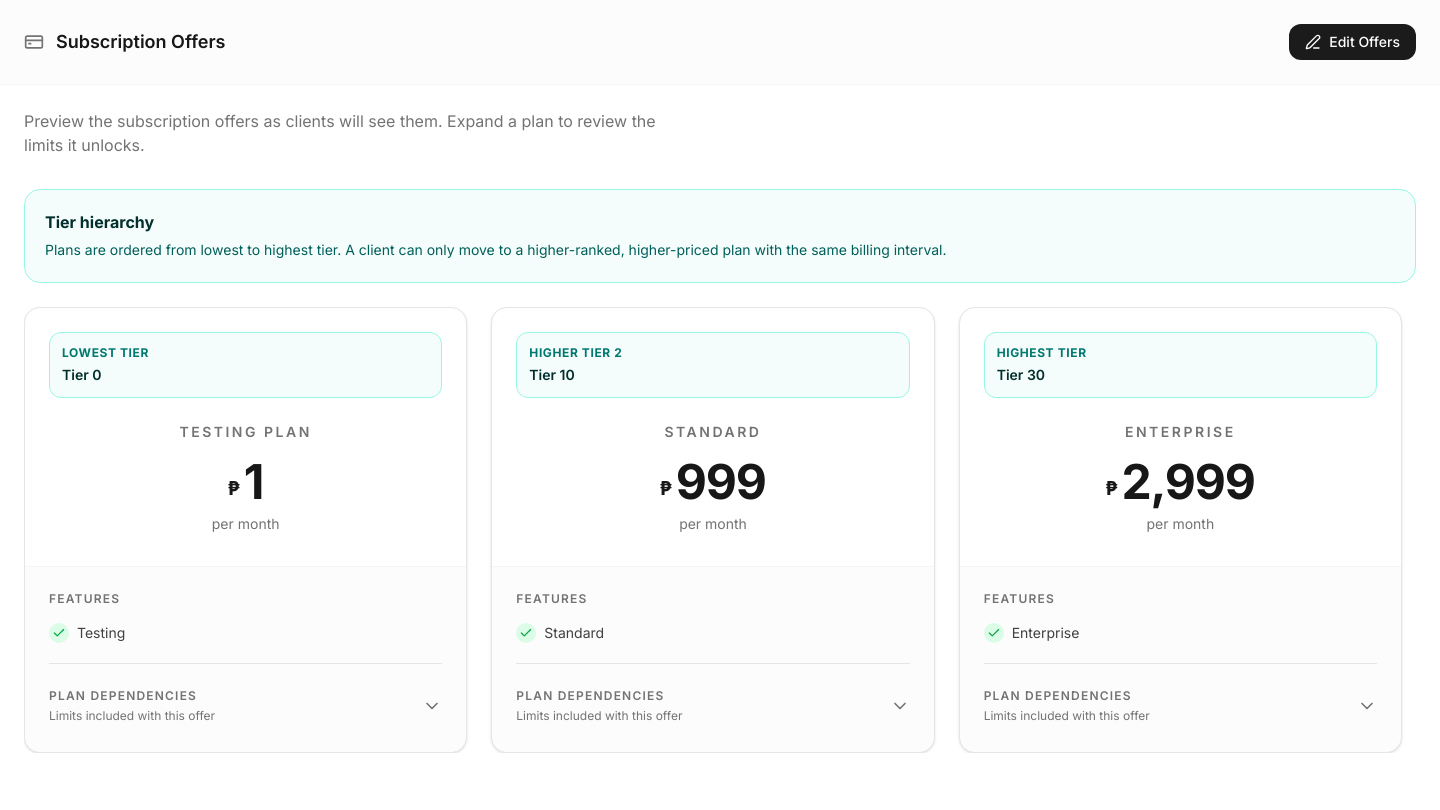
Scenario: AdminSubscriptions tier hierarchy › shows administrators the declared hierarchy and movement controls
Expected: the heading "Tier hierarchy" is shown, [45,212,154,232]
Expected: the text "Lowest tier" is shown, [62,345,149,361]
Click the button "Edit Offers": (1353, 42) [1289,24,1416,60]
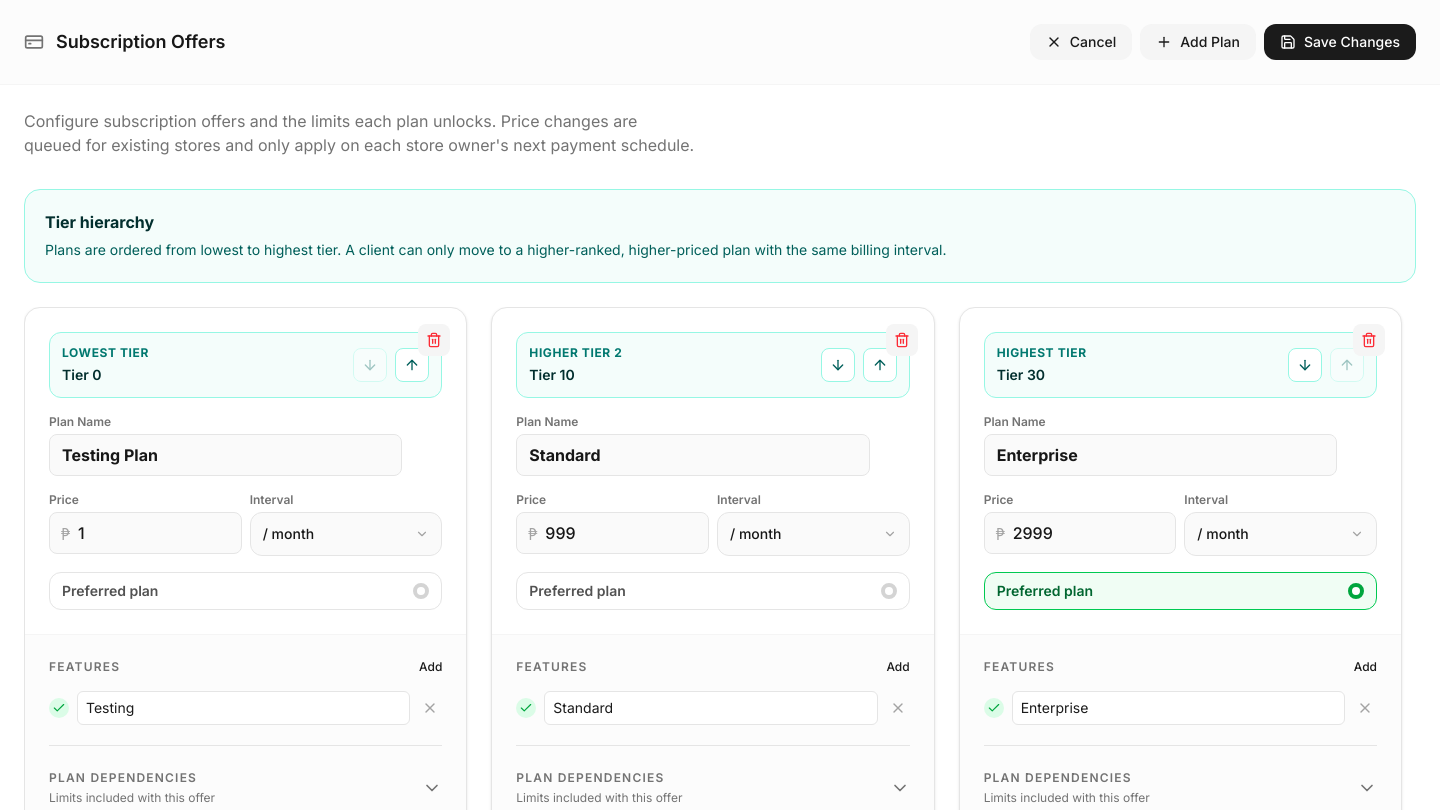
Result: the button named "Move Testing Plan higher" is shown at [395,348,429,382]
Result: the button named "Move Standard lower" is shown at [821,348,855,382]
